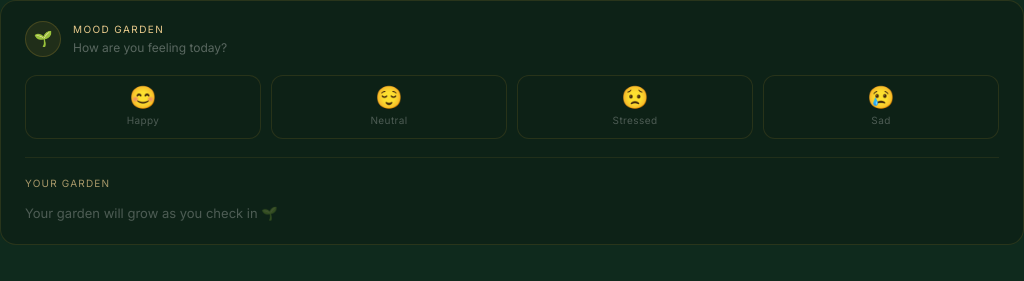
Test: MoodGarden › garden display › replaces the today placeholder with the mood glyph after selection
Expected: the text "Your garden will grow as you check in 🌱" is shown, [25,205,278,221]
Click the button "😢 Sad" at coordinates (881, 107), box [763,75,999,139]
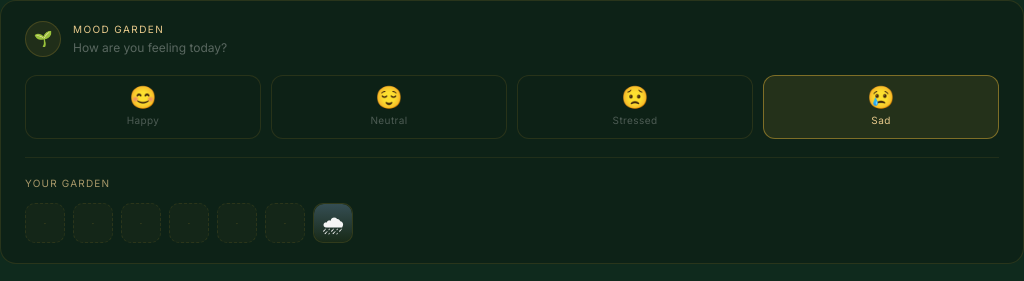
Expected: the text "🌧" is shown, [322,208,344,238]
Expected: the text "Your garden will grow" is gone
